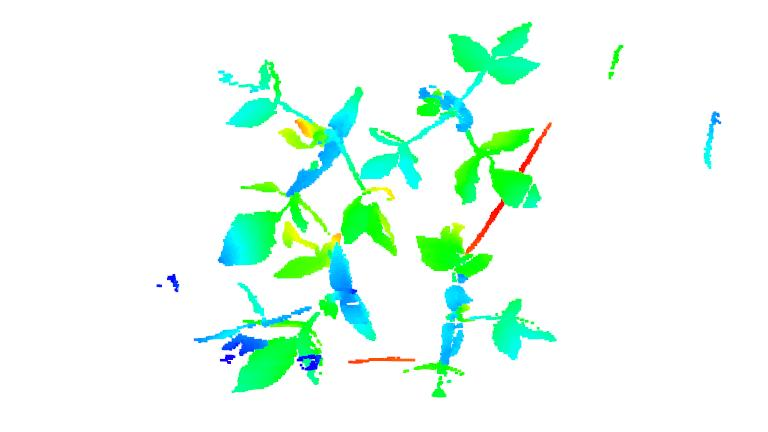mungbean: (213, 52, 405, 267), (359, 10, 554, 210), (194, 244, 379, 396), (413, 224, 562, 402)
